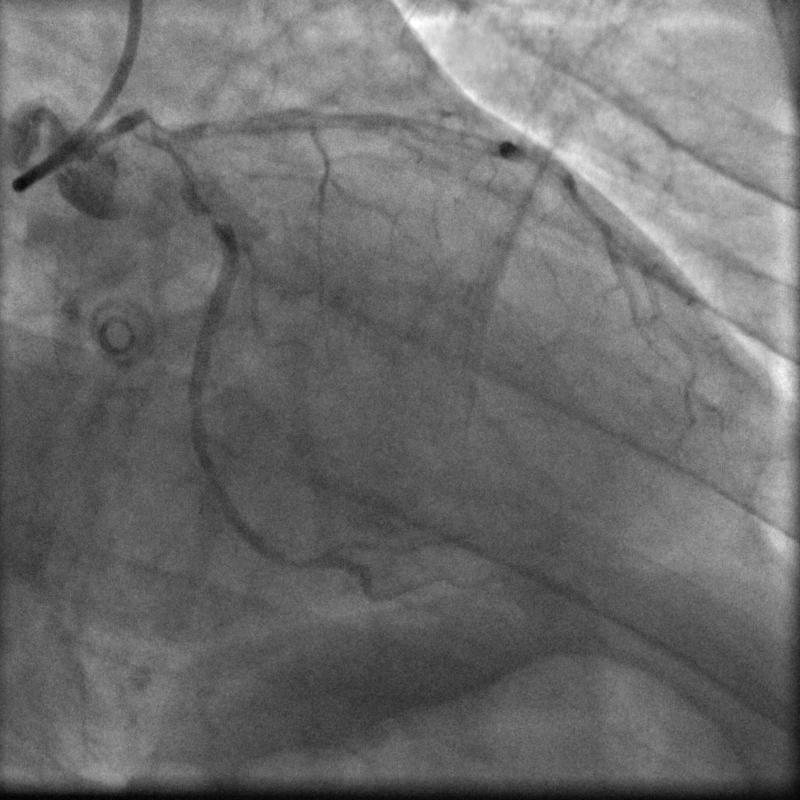Stenosis: (203, 208, 222, 224)
